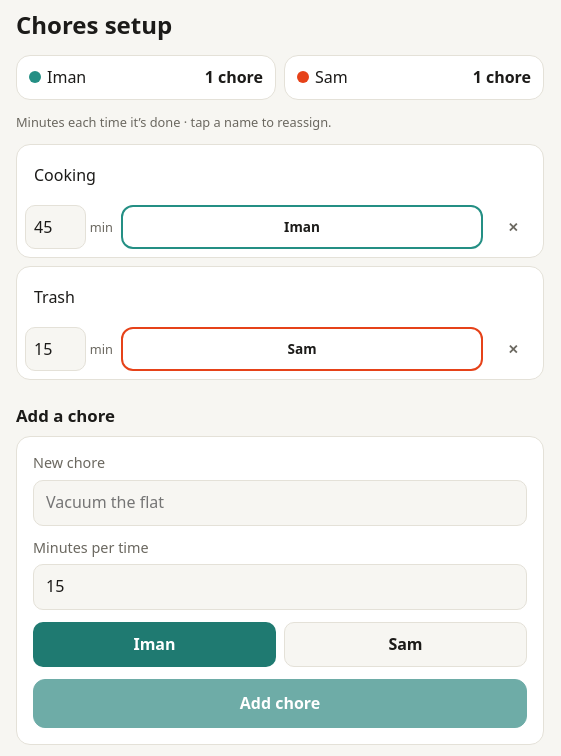
Test: blurring an emptied name reverts and does not write
The width and height of the screenshot is (561, 756).
Clear the field showing "Trash" at (280, 297), box [25,275,535,319]
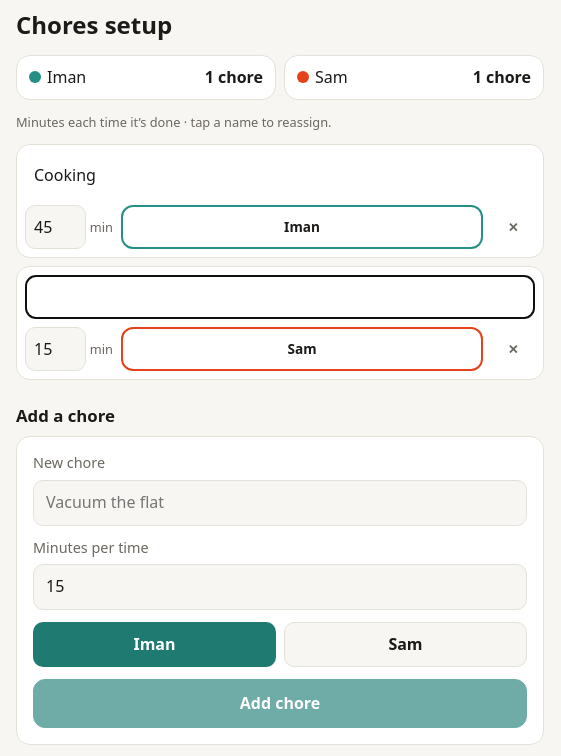
Press Tab
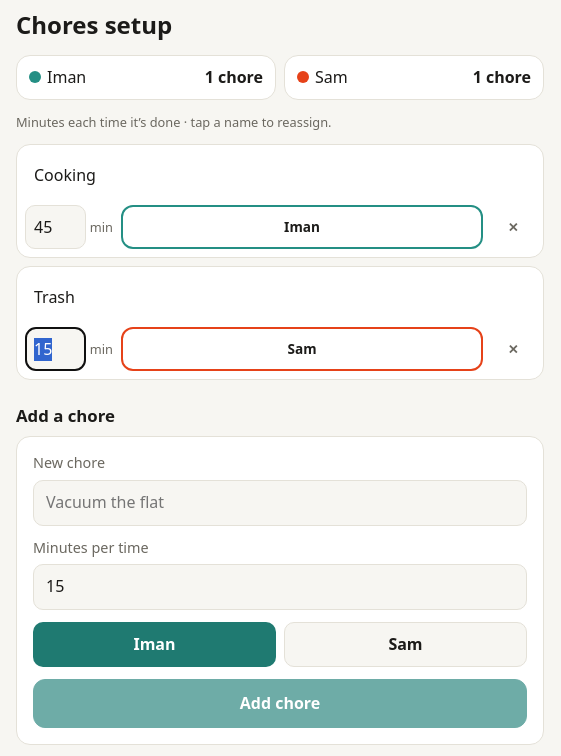
Expected: the field showing "Trash" holds "Trash", [25,275,535,319]
